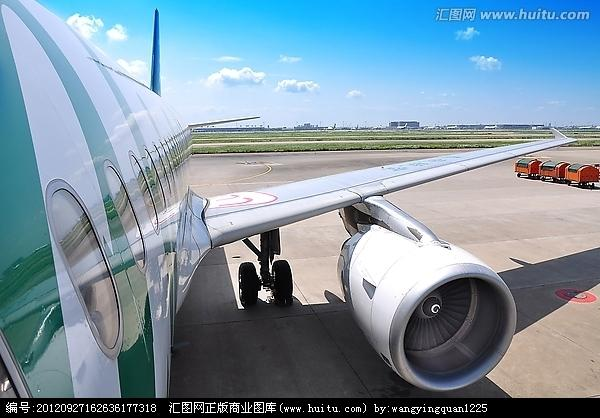airplane: (1, 1, 519, 402)
